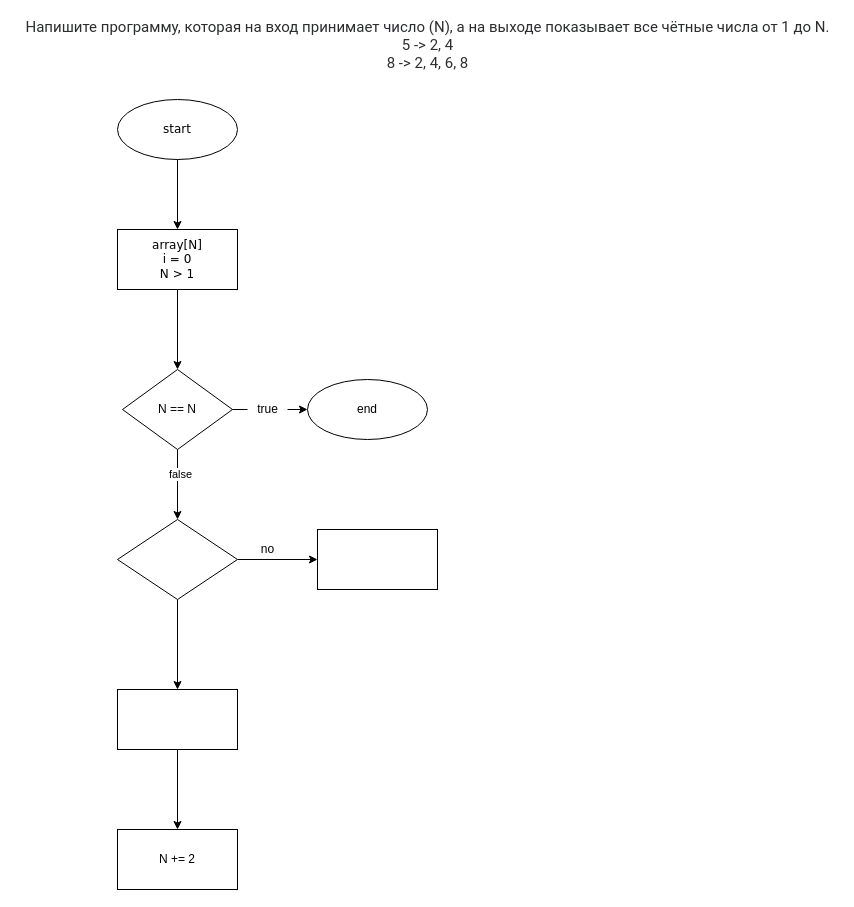
Some shapes in this 854 by 907 pixel diagram are drawn without their labels. The centre of each missing label's shape, as x and y in pixels:
N % 2 == 0: (177,559)
WriteLine(N): (177,719)
